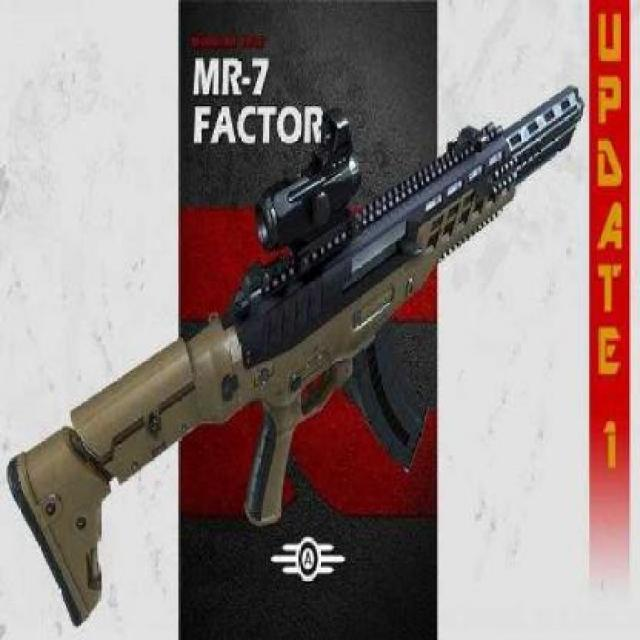weapon: (38, 89, 580, 604)
